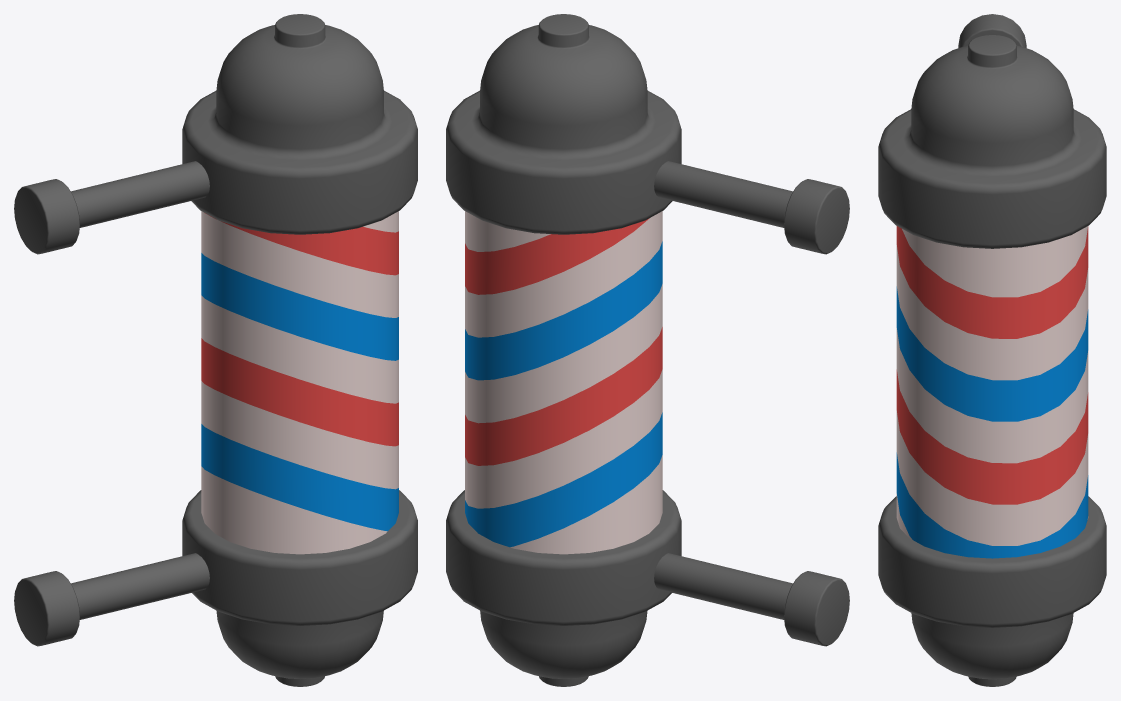
File: Public_15_Barbershop_Sign_1.glb
3 renders of one model, left to right at view 1: azimuth 30°, elevation 25°; view 2: azimuth 150°, elevation 25°; view 3: azimuth 270°, elevation 25°, orthographic. The views are drawn at different scales.
Visible parts, largest first — view 1: Public_15_Barbershop_Sign_1; view 2: Public_15_Barbershop_Sign_1; view 3: Public_15_Barbershop_Sign_1.
Part boxes in pixels (x1,y1,x2,y2): Public_15_Barbershop_Sign_1: (14, 14, 417, 686); Public_15_Barbershop_Sign_1: (446, 14, 849, 686); Public_15_Barbershop_Sign_1: (878, 14, 1106, 686).
Bounding box in the file's own units: 1.03 × 1.73 × 0.5649.
1 material, 1 textured.
